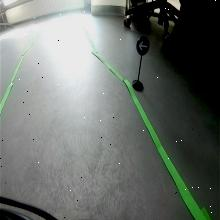left: (135, 35, 150, 55)
